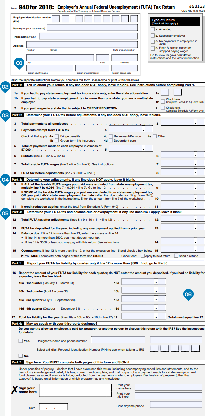checkbox: (139, 252, 147, 258), (150, 25, 156, 32), (53, 137, 60, 143), (108, 133, 115, 139), (108, 137, 115, 143), (17, 352, 24, 358), (149, 45, 156, 51), (173, 252, 180, 258), (160, 99, 167, 104), (159, 105, 166, 110), (150, 33, 157, 38), (54, 133, 61, 138), (151, 133, 158, 138), (17, 338, 24, 343), (149, 39, 156, 44)
textbox: (38, 382, 113, 398), (25, 40, 139, 49), (38, 31, 139, 40), (46, 23, 138, 32), (25, 53, 95, 62), (133, 382, 203, 391), (134, 391, 204, 400), (90, 334, 147, 344), (149, 334, 203, 344), (149, 399, 203, 409), (160, 192, 207, 202), (159, 213, 206, 223), (159, 234, 206, 244), (121, 302, 168, 312), (160, 166, 206, 176), (25, 63, 74, 72), (160, 117, 207, 126), (108, 143, 155, 152), (159, 182, 206, 191), (160, 200, 207, 209), (159, 222, 206, 231), (120, 277, 167, 286), (159, 244, 206, 253), (120, 285, 167, 294), (120, 293, 167, 302), (120, 311, 167, 320), (160, 158, 206, 167), (108, 124, 155, 132), (160, 150, 206, 158), (74, 63, 111, 72), (110, 63, 139, 72), (111, 53, 139, 62), (38, 402, 69, 410), (95, 53, 110, 62), (172, 87, 183, 97), (160, 87, 170, 97), (170, 343, 180, 352), (61, 14, 70, 23), (75, 14, 84, 23), (84, 14, 93, 23), (93, 14, 102, 23), (102, 14, 111, 23), (111, 14, 120, 23), (181, 343, 190, 352), (160, 344, 170, 352), (191, 344, 201, 352), (52, 14, 60, 23), (121, 14, 129, 23), (130, 14, 138, 23), (150, 344, 159, 352)
